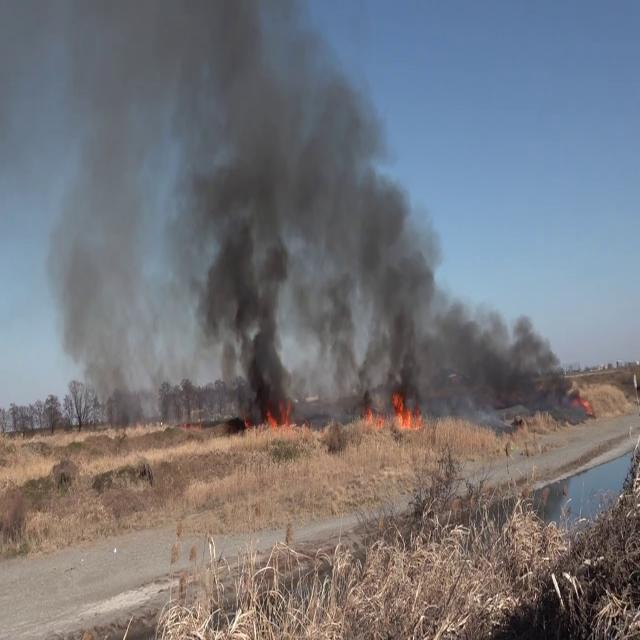Fire: (388, 383, 424, 435)
Smoke: (42, 1, 446, 417), (422, 288, 584, 414)
